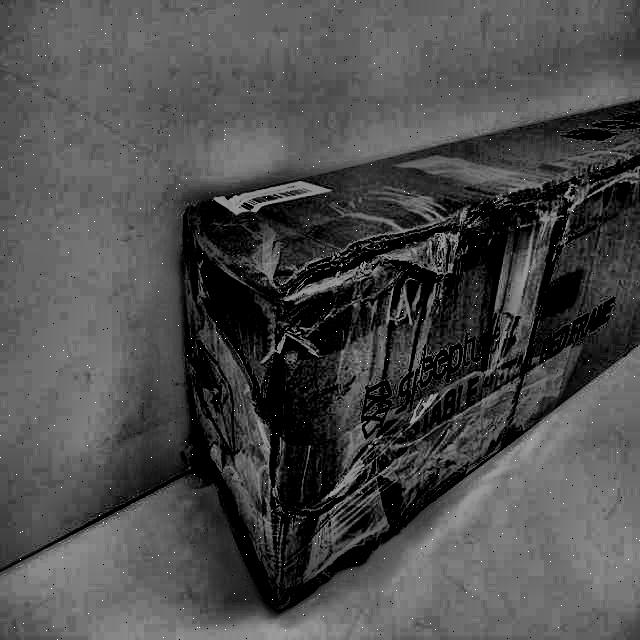box: (155, 80, 639, 625)
hole: (392, 252, 442, 292)
